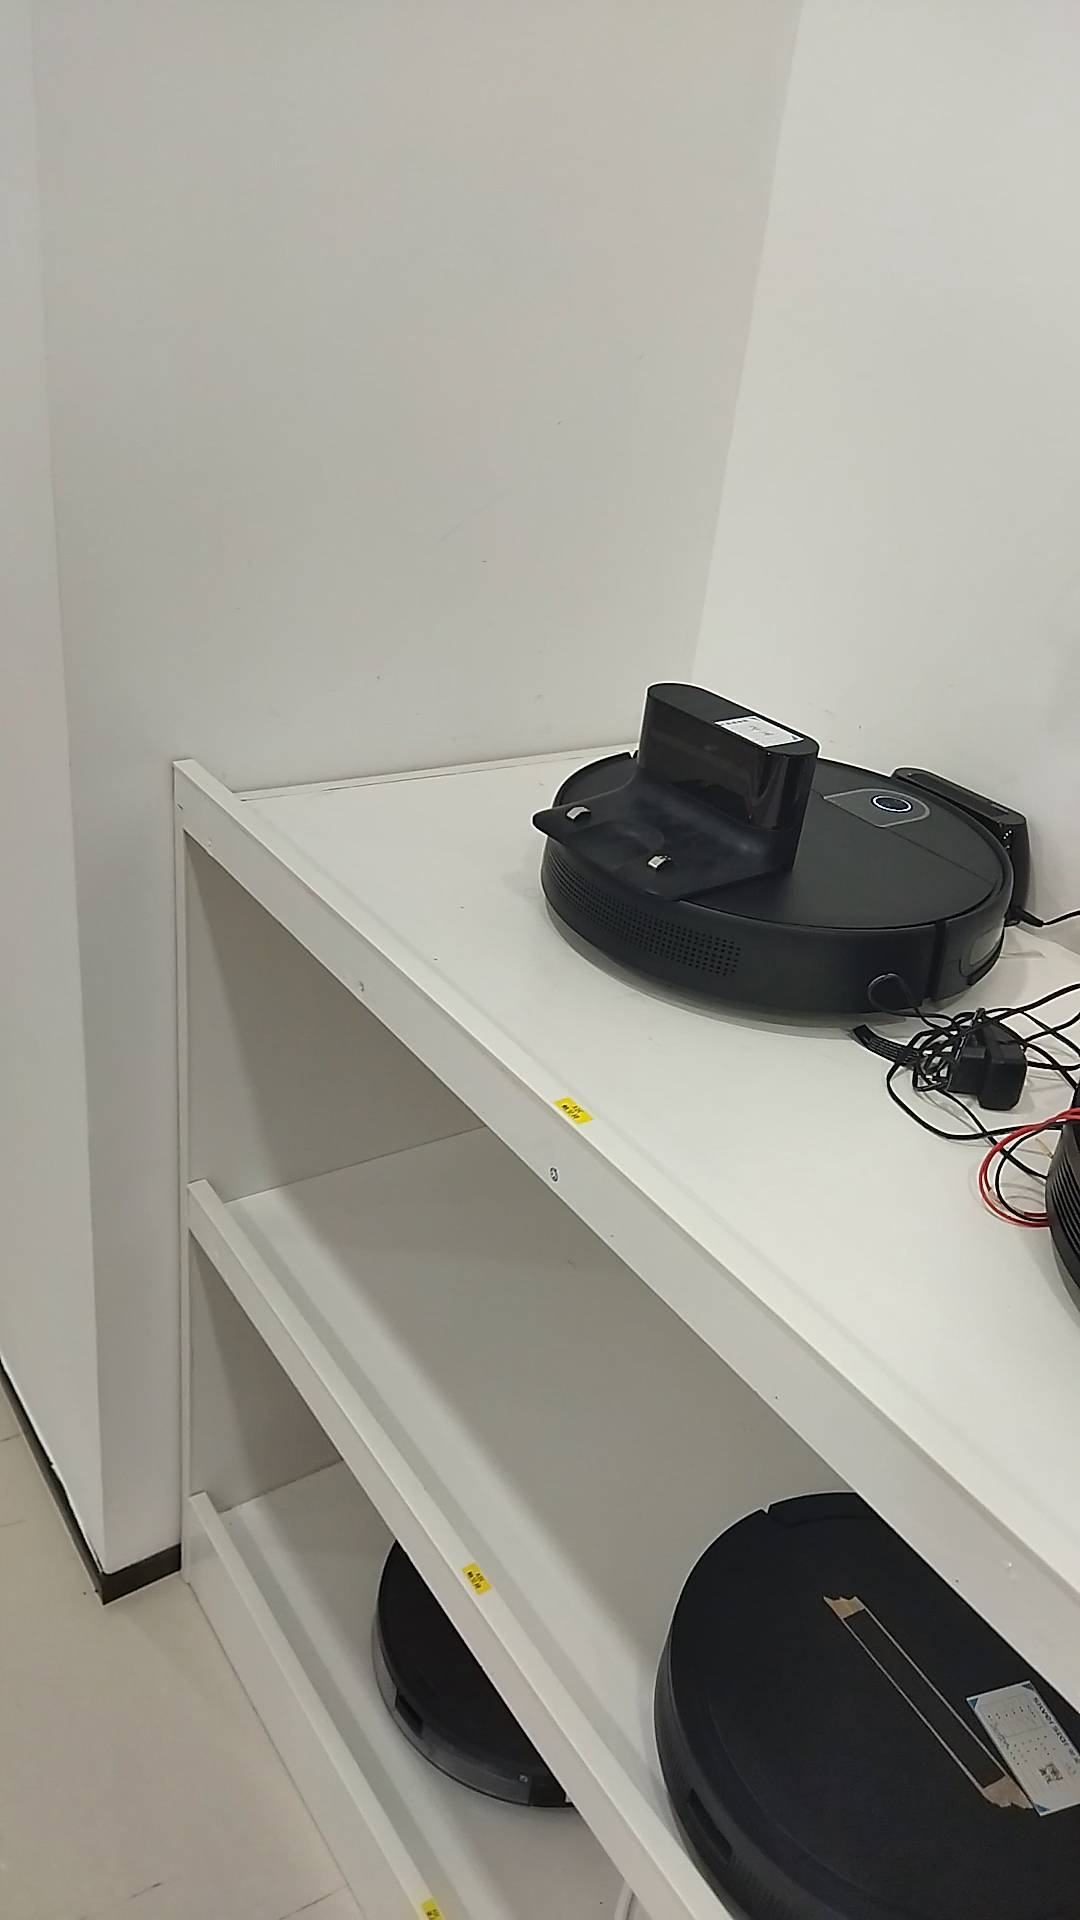recharge seat: (529, 680, 824, 901)
